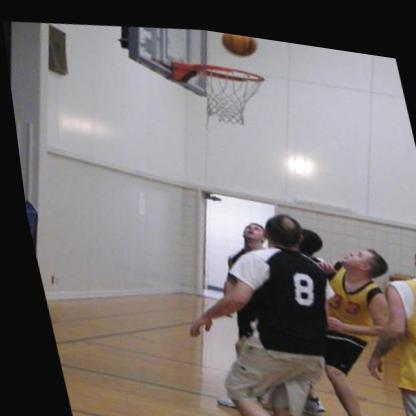basketball: (221, 26, 258, 55)
